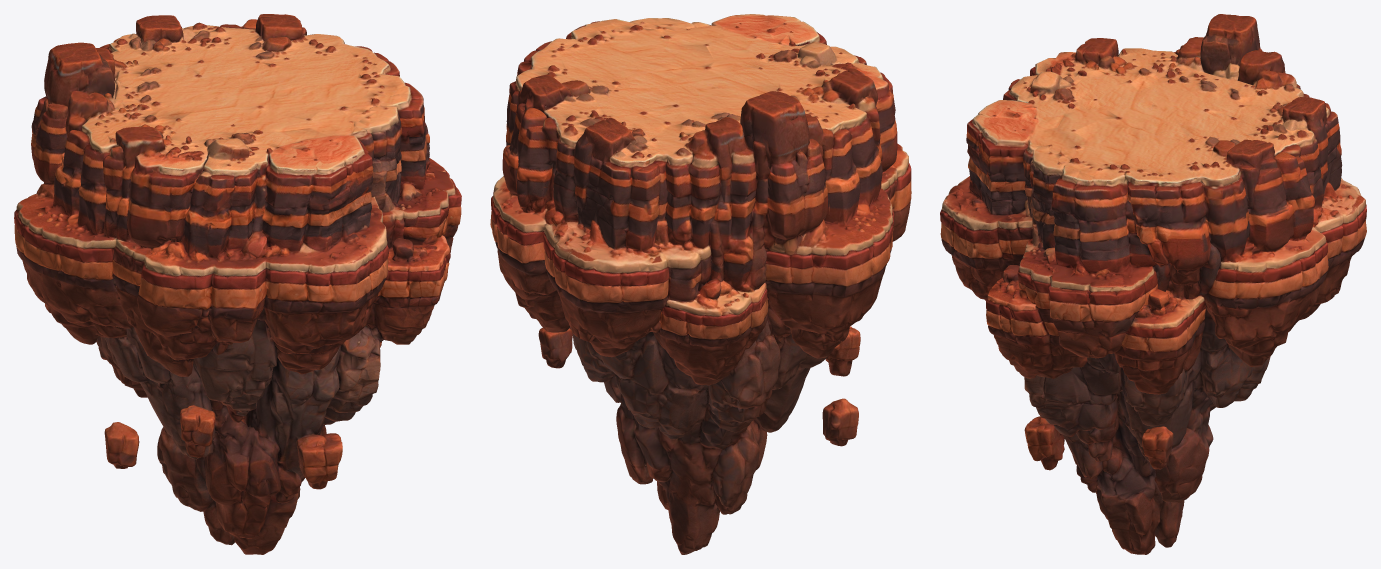
File: kfb-meshy-mesa-island.browser-b.v1.glb
3 renders of one model, left to right at view 1: azimuth 30°, elevation 25°; view 2: azimuth 150°, elevation 25°; view 3: azimuth 270°, elevation 25°, orthographic. The views are drawn at different scales.
Bounding box in the file's own units: 1.51 × 1.9 × 1.55.
1 material, 1 textured.
